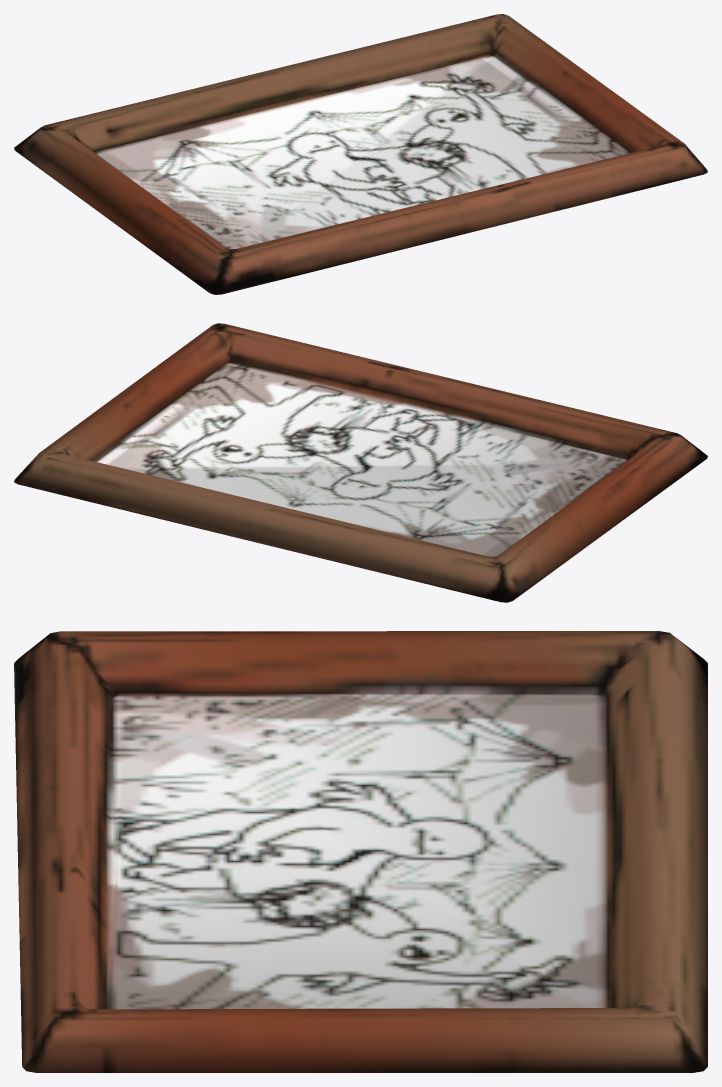
Rendered from Painting3.fbx.
3 views of the same model, one above another, from view 1: azimuth 30°, elevation 25°; view 2: azimuth 150°, elevation 25°; view 3: azimuth 270°, elevation 25° (orthographic). The views are drawn at different scales.
Visible parts, largest first — view 1: Painting3; view 2: Painting3; view 3: Painting3.
Boxes of the visible parts, x1,y1,x2,y2 form: Painting3: (14, 14, 707, 294); Painting3: (14, 323, 707, 602); Painting3: (14, 631, 707, 1072).
Size of the model in its own units: 69.03 by 3.09 by 48.69.
